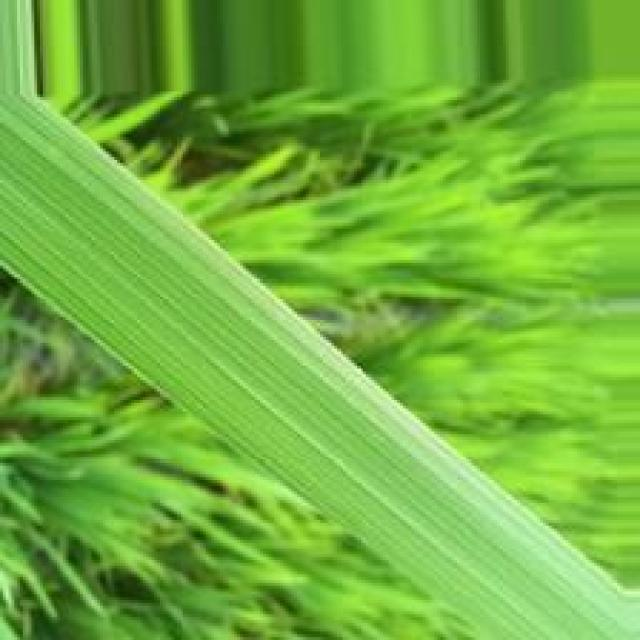HealthyLeaf: (3, 125, 610, 638)
